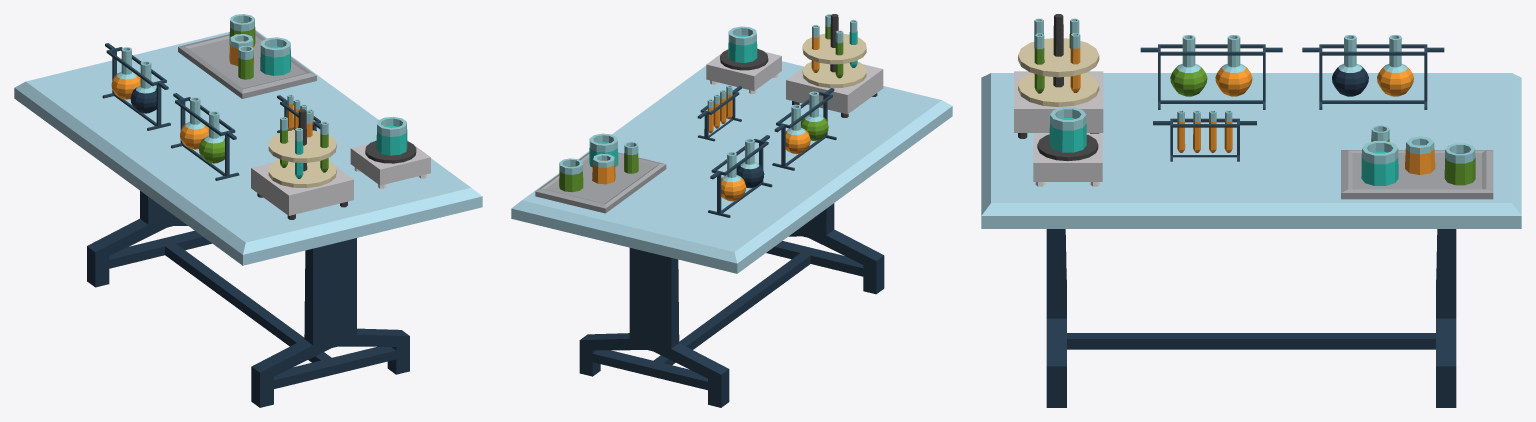
The model's file is Table3.fbx.
3 renders of one model, left to right at view 1: azimuth 30°, elevation 25°; view 2: azimuth 150°, elevation 25°; view 3: azimuth 270°, elevation 25°, orthographic. The views are drawn at different scales.
Visible parts, largest first — view 1: Cube.011_187, Cube.012_188, Cube.040_236, Cube.030_245, Cube.031_232, Circle.022_239, Circle.021_238, Cube.033_234, Cube.032_233, Circle.035_227, Circle.055_228, Circle.032_224 (+8 smaller); view 2: Cube.011_187, Cube.012_188, Cube.040_236, Cube.030_245, Cube.031_232, Circle.022_239, Circle.021_238, Cube.033_234, Cube.032_233, Circle.035_227, Circle.031_223, Circle.057_230 (+9 smaller); view 3: Cube.011_187, Cube.012_188, Cube.040_236, Cube.030_245, Cube.031_232, Cube.033_234, Circle.022_239, Cube.032_233, Circle.021_238, Circle.035_227, Circle.055_228, Circle.031_223 (+11 smaller).
Boxes of the visible parts, box(x1,y1,x2,y2) form: Cube.011_187: box(14, 30, 482, 265); Cube.012_188: box(87, 191, 409, 407); Cube.040_236: box(178, 31, 316, 98); Cube.030_245: box(251, 162, 353, 215); Cube.031_232: box(350, 140, 430, 185); Circle.022_239: box(268, 130, 336, 162); Circle.021_238: box(268, 159, 336, 187); Cube.033_234: box(102, 43, 170, 130); Cube.032_233: box(171, 93, 239, 180); Circle.035_227: box(376, 116, 407, 155); Circle.055_228: box(260, 37, 290, 75); Circle.032_224: box(130, 61, 156, 113); Cube.011_187: box(511, 61, 952, 273); Cube.012_188: box(579, 203, 884, 407); Cube.040_236: box(535, 152, 666, 213); Cube.030_245: box(786, 64, 883, 114); Cube.031_232: box(706, 49, 781, 90); Circle.022_239: box(802, 33, 866, 64); Circle.021_238: box(802, 62, 866, 88); Cube.033_234: box(708, 135, 772, 217); Cube.032_233: box(772, 88, 836, 170); Circle.035_227: box(728, 26, 757, 62); Circle.031_223: box(785, 104, 810, 154); Circle.057_230: box(559, 158, 583, 192); Cube.011_187: box(981, 73, 1521, 228); Cube.012_188: box(1046, 229, 1456, 407); Cube.040_236: box(1341, 150, 1493, 199); Cube.030_245: box(1014, 71, 1103, 132); Cube.031_232: box(1033, 133, 1102, 181); Cube.033_234: box(1302, 44, 1444, 109); Circle.022_239: box(1018, 38, 1099, 77); Cube.032_233: box(1140, 44, 1282, 109); Circle.021_238: box(1018, 73, 1099, 107); Circle.035_227: box(1049, 107, 1086, 152); Circle.055_228: box(1361, 141, 1398, 185); Circle.031_223: box(1215, 35, 1252, 96).
Size of the model in its own units: 54.59 by 61.31 by 90.09.
